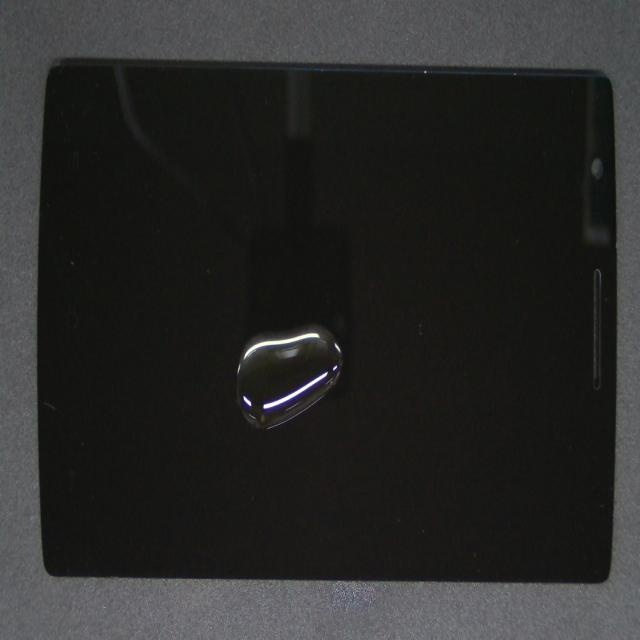oil: (180, 143, 412, 501)
